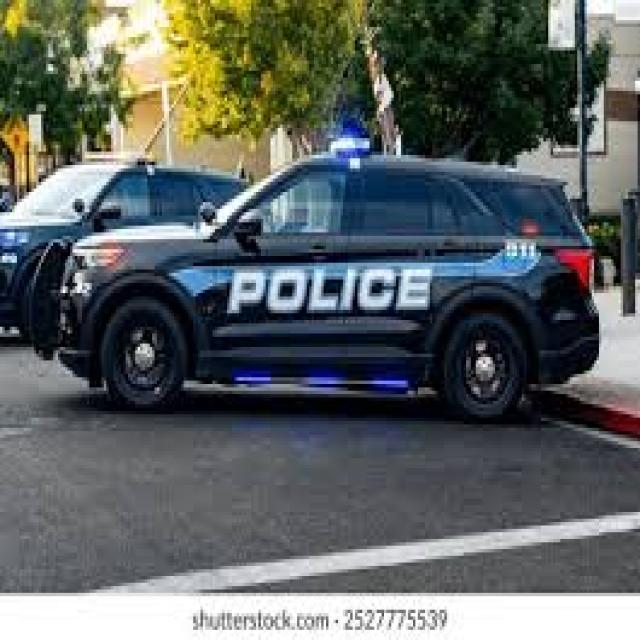cop: (40, 138, 606, 421)
